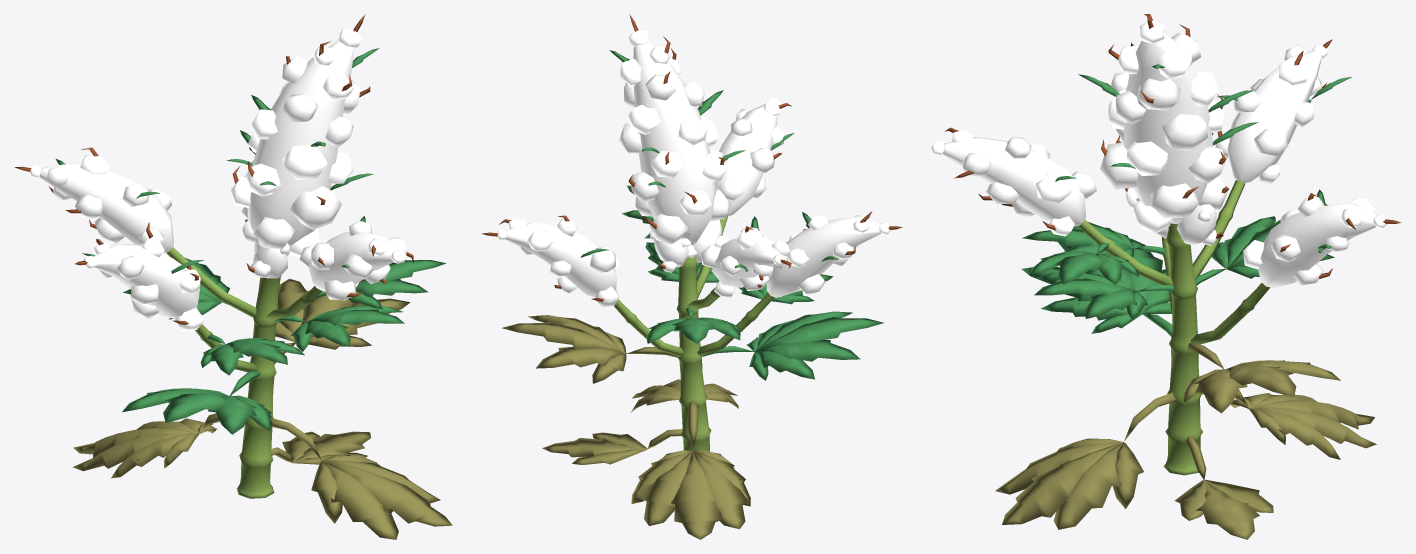
Rendered from plant_ready.glb.
3 views of the same model, side by side, from view 1: azimuth 30°, elevation 25°; view 2: azimuth 150°, elevation 25°; view 3: azimuth 270°, elevation 25° (orthographic). The views are drawn at different scales.
Visible parts, largest first — view 1: Leaves, ColaTop, Cola4, Cola1, Cola3; view 2: Leaves, ColaTop, Cola2, Cola1, Cola3, Cola4; view 3: Leaves, ColaTop, Cola3, Cola4, Cola2, Cola1.
Boxes of the visible parts, <box> form: Leaves: <box>55,48,452,539</box>; ColaTop: <box>231,14,370,278</box>; Cola4: <box>14,147,173,252</box>; Cola1: <box>75,238,204,331</box>; Cola3: <box>299,220,413,300</box>; Leaves: <box>502,50,883,539</box>; ColaTop: <box>619,14,729,272</box>; Cola2: <box>482,215,620,307</box>; Cola1: <box>766,211,902,297</box>; Cola3: <box>710,97,791,216</box>; Cola4: <box>701,226,791,297</box>; Leaves: <box>995,64,1376,539</box>; ColaTop: <box>1100,14,1229,245</box>; Cola3: <box>931,127,1096,236</box>; Cola4: <box>1215,39,1332,183</box>; Cola2: <box>1243,193,1401,287</box>; Cola1: <box>1110,42,1137,210</box>.
Bounding box in the file's own units: 0.9067 × 1.07 × 0.9109.
